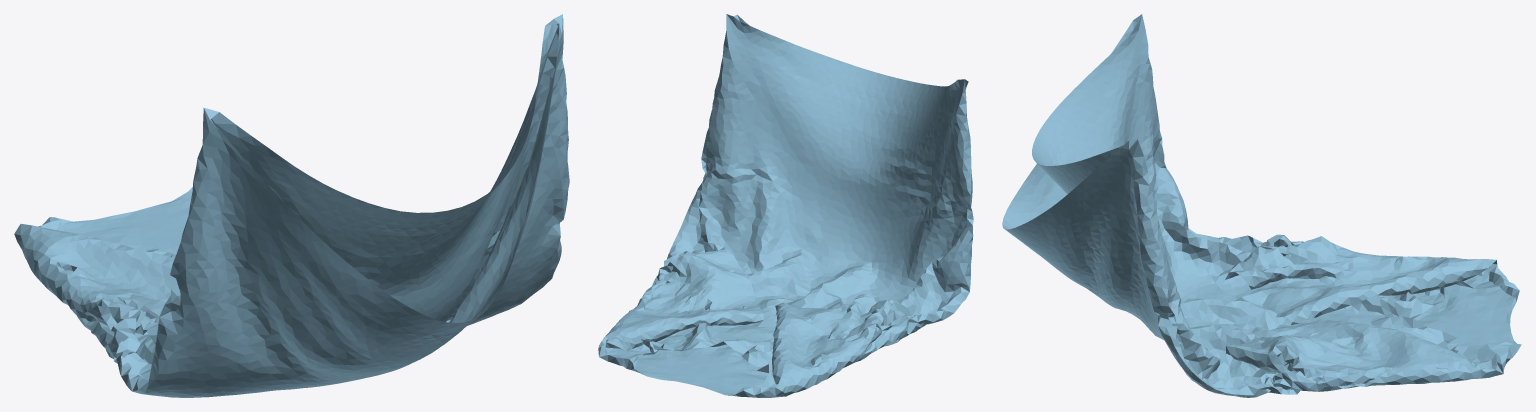
Rendered from frame_08.glb.
3 views of the same model, side by side, from view 1: azimuth 30°, elevation 25°; view 2: azimuth 150°, elevation 25°; view 3: azimuth 270°, elevation 25° (orthographic). The views are drawn at different scales.
Parts seen in each view (by area): view 1: frame_08.obj; view 2: frame_08.obj; view 3: frame_08.obj.
Part boxes in pixels (box(x1,y1,x2,y2)): frame_08.obj: box(14, 14, 569, 397); frame_08.obj: box(598, 14, 973, 397); frame_08.obj: box(1002, 14, 1521, 397).
Bounding box in the file's own units: 1.1 × 0.8498 × 1.55.
